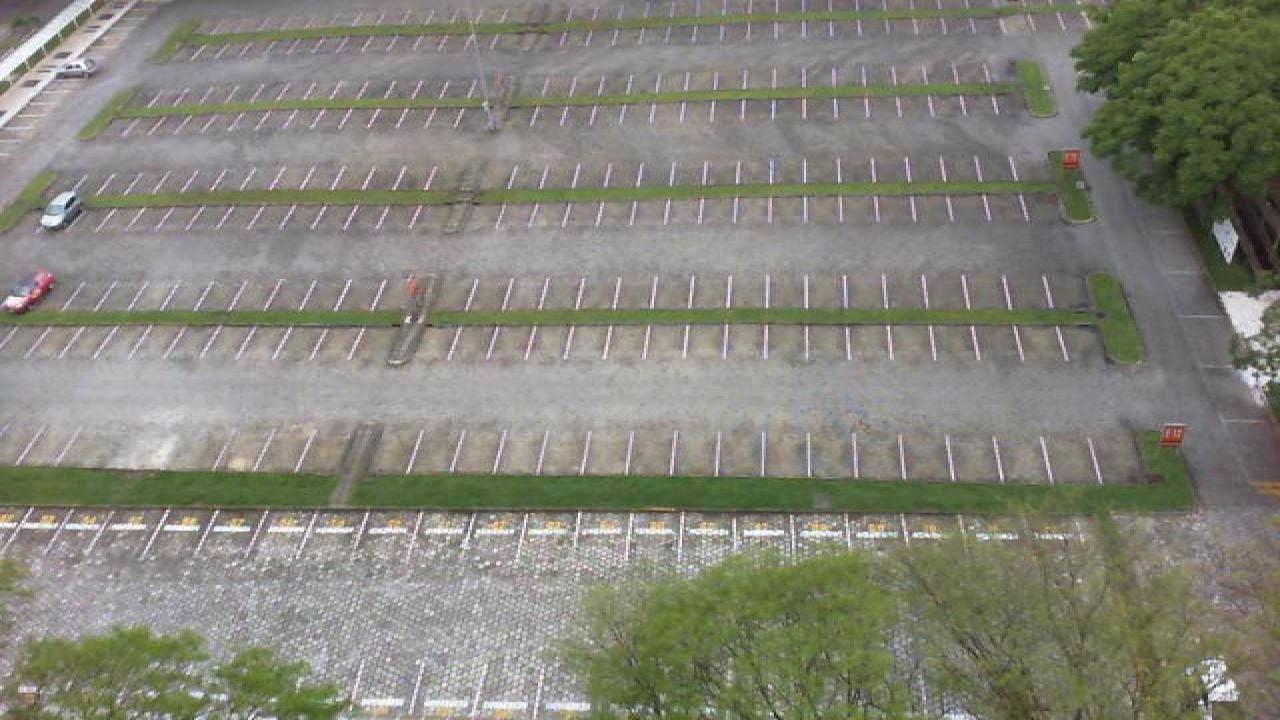Car: (0, 271, 56, 315), (38, 190, 84, 231), (54, 56, 98, 78)
